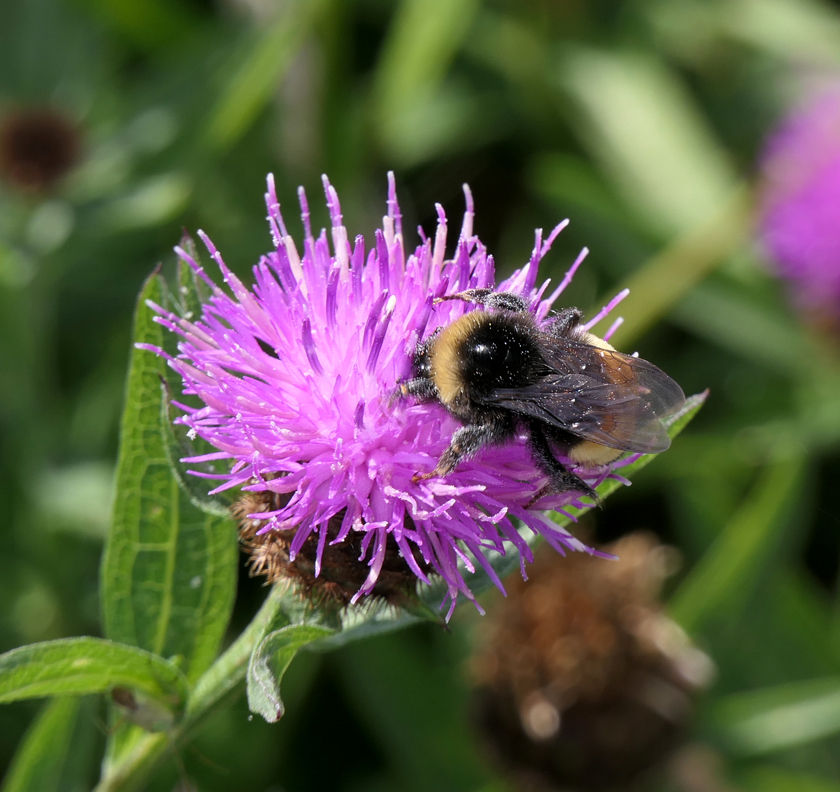bumblebee: (396, 288, 690, 509)
